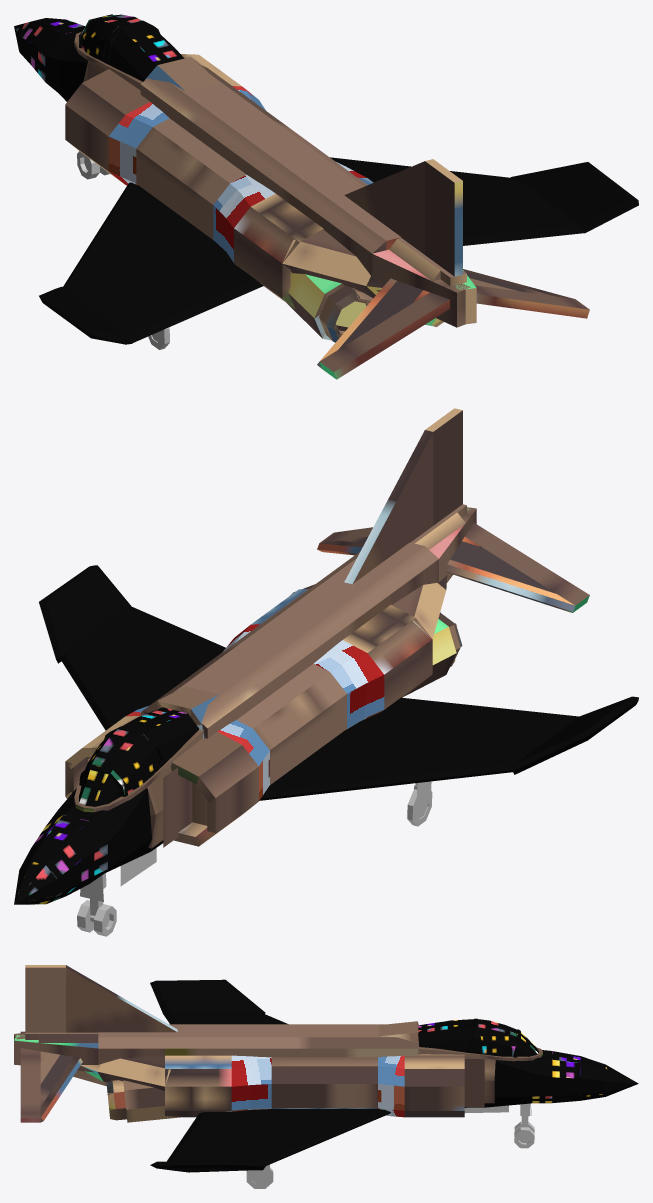
File: istrebitel.fbx
3 renders of one model, top to bottom at view 1: azimuth 30°, elevation 25°; view 2: azimuth 150°, elevation 25°; view 3: azimuth 270°, elevation 25°, orthographic. The views are drawn at different scales.
Parts seen in each view (by area): view 1: MainWing, cube.004, cube.006, MainWing.001, Wing_tip.001, cone, cube.003, cube.002, Cockpit_Cover, cube.083, cube.048, cube.047 (+29 smaller); view 2: MainWing, cone, MainWing.001, cube.004, Cockpit_Cover, cube.006, cube.003, Wing_tip.001, cuboid, cube.002, cube.048, cube.047 (+25 smaller); view 3: MainWing.001, cone, cube.003, cube.026, cube.004, Cockpit_Cover, Wing_tip, cube.002, cube.057, cube, cuboid.002, cube.058 (+28 smaller).
Part boxes in pixels (x1=…): MainWing: x1=63, y1=182, x2=263, y2=343; cube.004: x1=171, y1=74, x2=401, y2=249; cube.006: x1=141, y1=78, x2=387, y2=253; MainWing.001: x1=330, y1=157, x2=584, y2=234; Wing_tip.001: x1=511, y1=162, x2=638, y2=233; cone: x1=14, y1=18, x2=88, y2=101; cube.003: x1=344, y1=161, x2=424, y2=254; cube.002: x1=425, y1=159, x2=462, y2=276; Cockpit_Cover: x1=79, y1=14, x2=184, y2=81; cube.083: x1=319, y1=292, x2=449, y2=379; cube.048: x1=136, y1=149, x2=213, y2=239; cube.047: x1=136, y1=127, x2=229, y2=204; MainWing: x1=259, y1=697, x2=578, y2=800; cone: x1=14, y1=788, x2=163, y2=904; MainWing.001: x1=61, y1=606, x2=210, y2=730; cube.004: x1=174, y1=542, x2=424, y2=703; Cockpit_Cover: x1=79, y1=707, x2=199, y2=806; cube.006: x1=201, y1=546, x2=438, y2=731; cube.003: x1=344, y1=430, x2=433, y2=584; Wing_tip.001: x1=39, y1=565, x2=131, y2=663; cuboid: x1=314, y1=640, x2=384, y2=729; cube.002: x1=425, y1=408, x2=462, y2=525; cube.048: x1=268, y1=694, x2=346, y2=784; cube.047: x1=253, y1=672, x2=346, y2=749; MainWing.001: x1=171, y1=1109, x2=390, y2=1172; cone: x1=464, y1=1050, x2=638, y2=1107; cube.003: x1=66, y1=965, x2=177, y2=1032; cube.026: x1=98, y1=1037, x2=417, y2=1048; cube.004: x1=98, y1=1024, x2=394, y2=1037; Cockpit_Cover: x1=418, y1=1019, x2=538, y2=1056; Wing_tip: x1=150, y1=979, x2=265, y2=1014; cube.002: x1=25, y1=965, x2=65, y2=1032; cube.057: x1=271, y1=1084, x2=377, y2=1107; cube: x1=165, y1=1048, x2=417, y2=1057; cuboid.002: x1=231, y1=1055, x2=271, y2=1111; cube.058: x1=271, y1=1066, x2=377, y2=1083.
Size of the model in its own units: 411 by 184 by 587.
